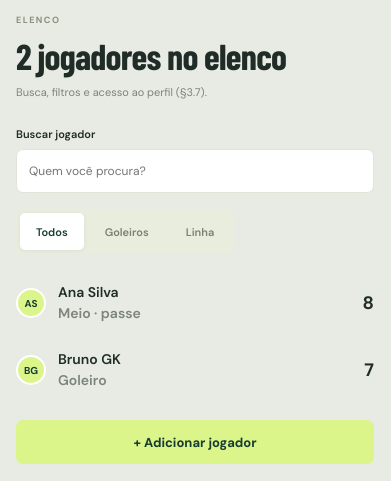
Scenario: JogadoresListaComponent › filtra por busca
Type "ana" into the search field with id "roster-search". click: [195, 171]
box: [16,149,374,193]
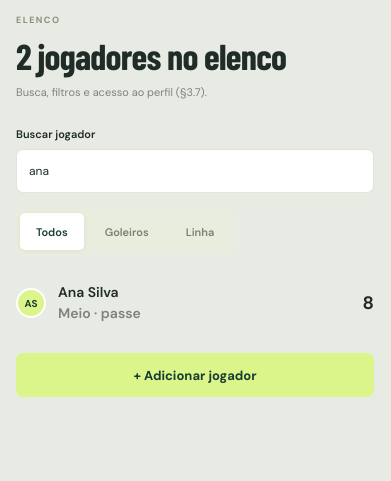
Check: the text "Ana Silva" is shown, box [58,283,119,301]
Check: the text "Bruno GK" is gone
